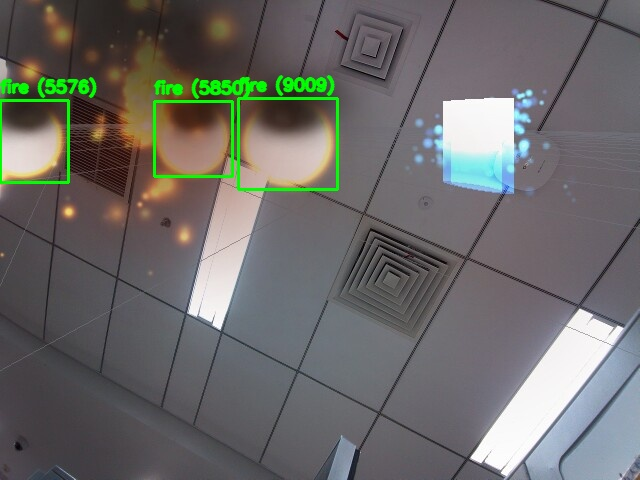fire: (238, 98, 337, 189), (154, 101, 232, 176), (0, 100, 68, 182)
